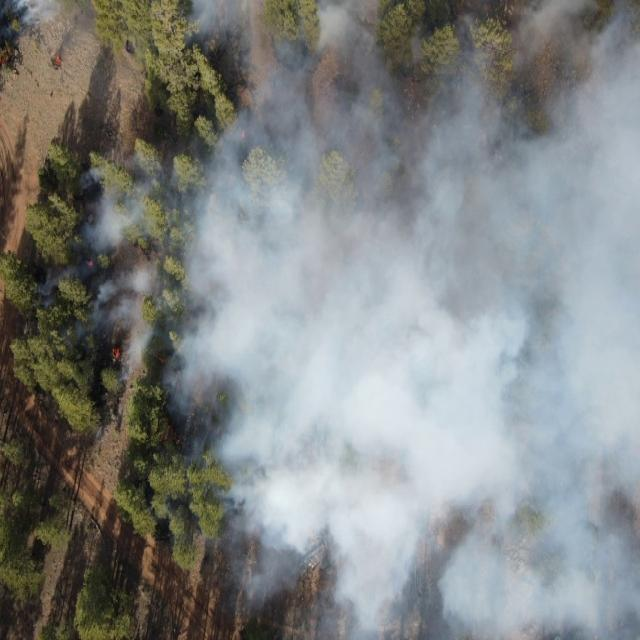fire: (51, 52, 64, 72), (0, 46, 12, 65), (156, 348, 167, 367), (109, 345, 122, 360), (87, 256, 96, 268)
smoke: (192, 12, 640, 640), (77, 148, 191, 418), (0, 1, 75, 44)
